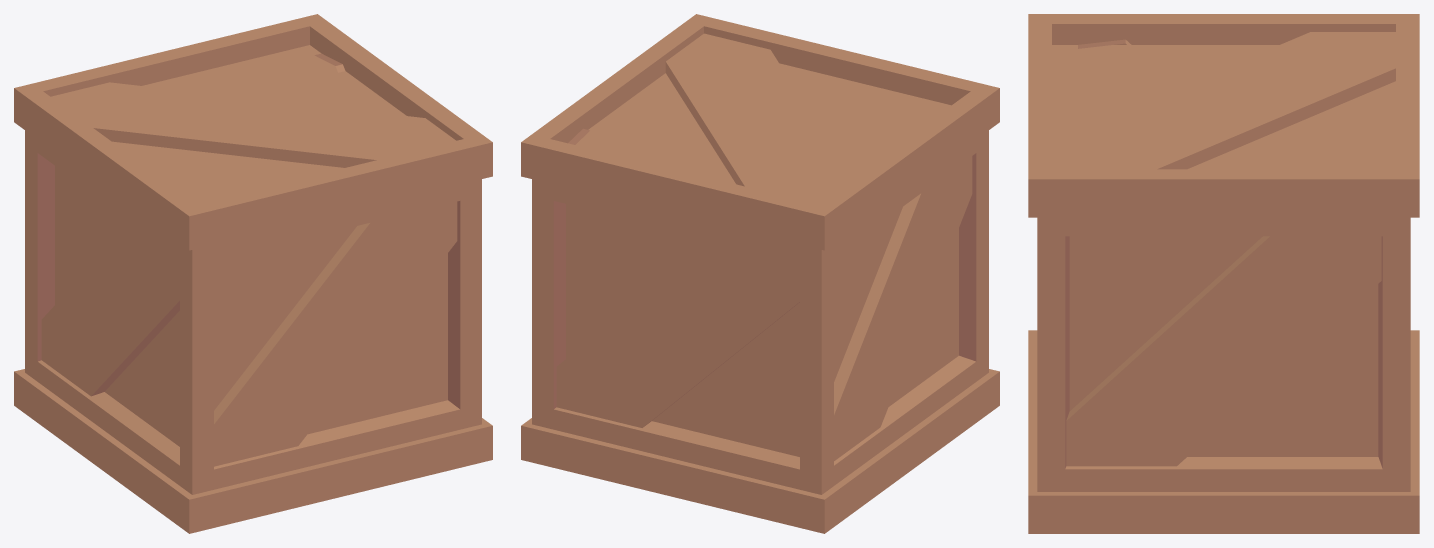
File: crate-large.glb
The picture shows the model from 3 angles, left to right: view 1: azimuth 30°, elevation 25°; view 2: azimuth 150°, elevation 25°; view 3: azimuth 270°, elevation 25°; orthographic projection. The views are drawn at different scales.
Visible parts, largest first — view 1: crate-b; view 2: crate-b; view 3: crate-b.
Part boxes in pixels (<box>): crate-b: <box>14,14,492,533</box>; crate-b: <box>521,14,999,533</box>; crate-b: <box>1028,14,1419,533</box>.
Size of the model in its own units: 2 by 2 by 2.
Materials: 1 (1 with a texture image).
